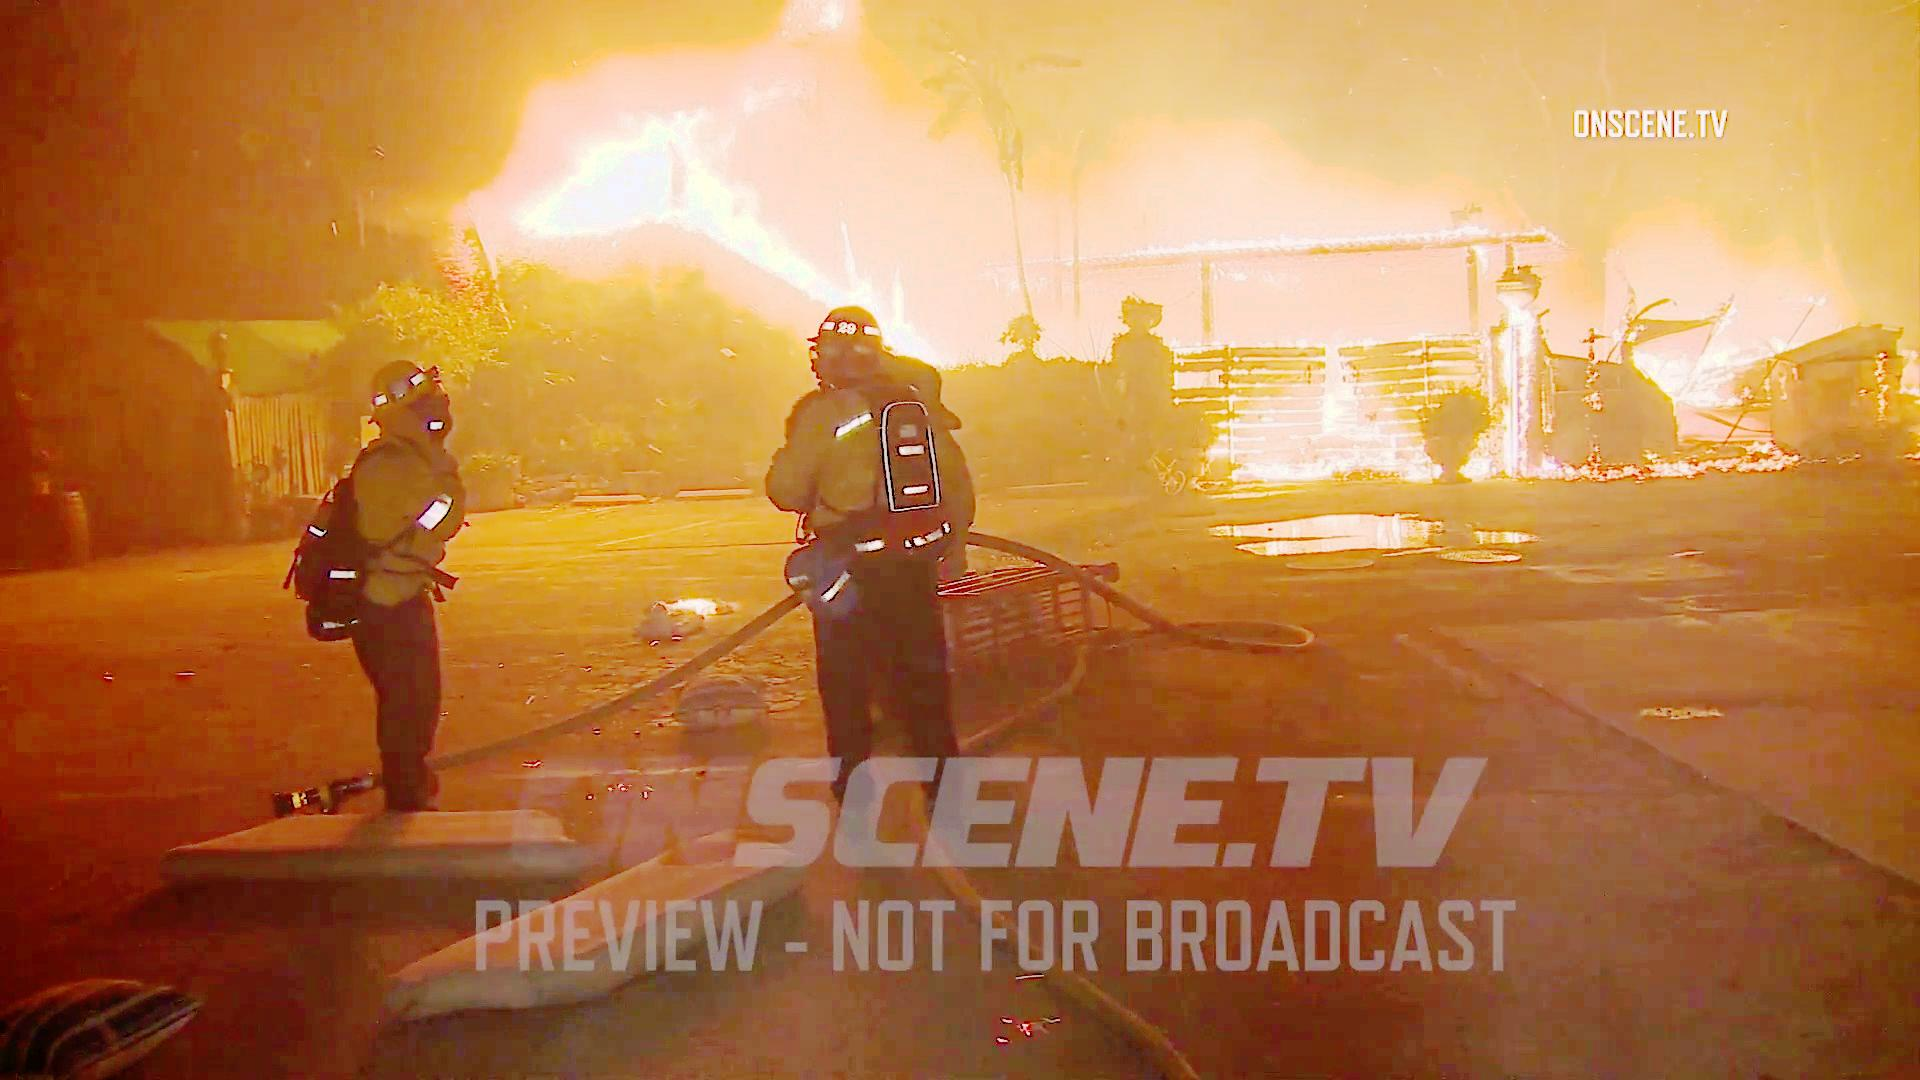fire: (524, 88, 760, 253), (1228, 368, 1411, 495), (1601, 293, 1759, 425)
